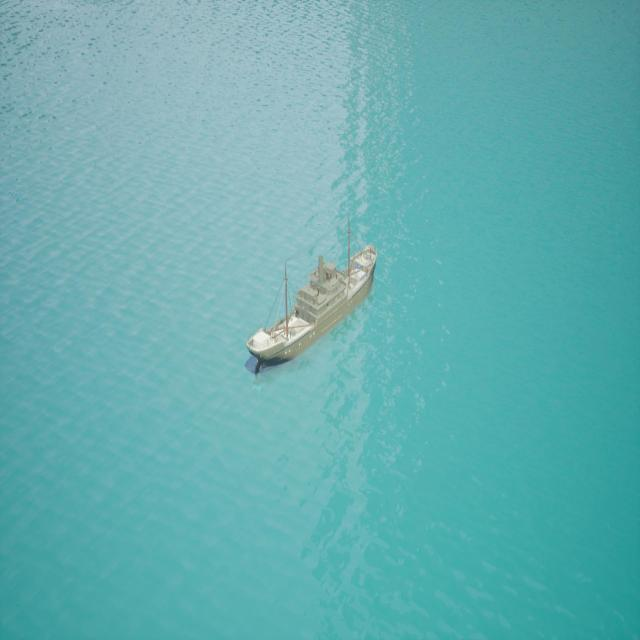fishing ship: (247, 246, 379, 375)
